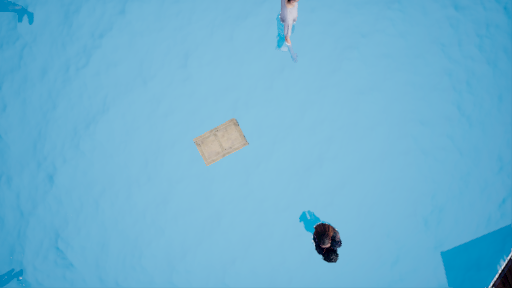person: (293, 209, 352, 266), (269, 1, 308, 69)
